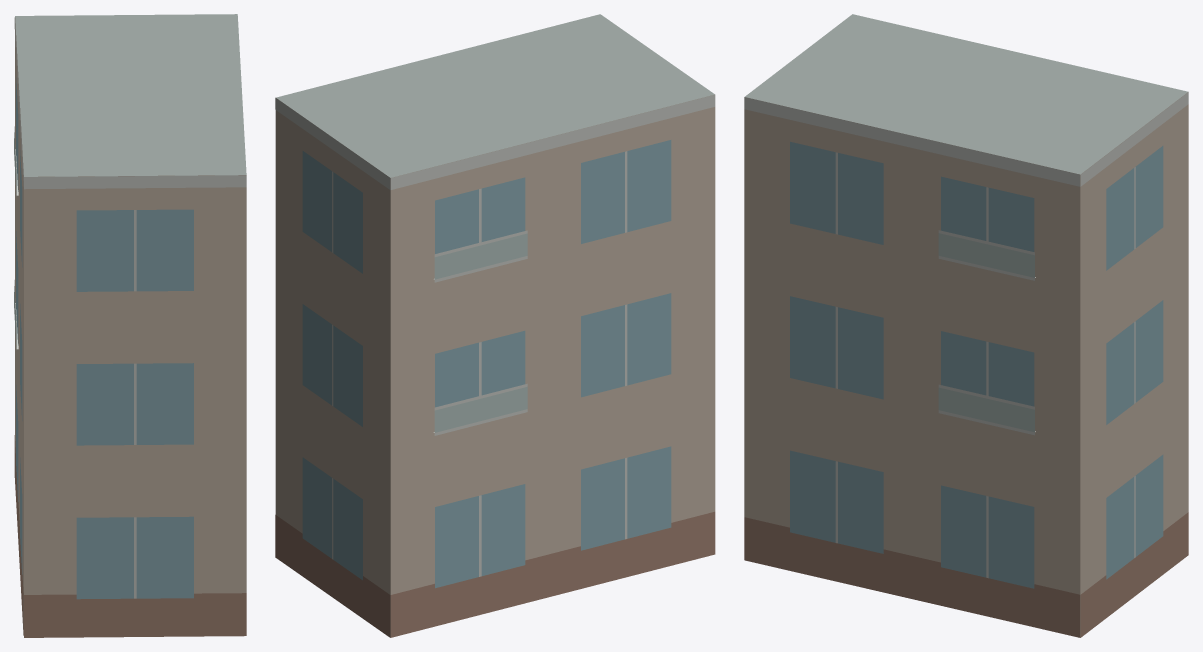
File: survey-upis-32965180.glb
3 renders of one model, left to right at view 1: azimuth 30°, elevation 25°; view 2: azimuth 150°, elevation 25°; view 3: azimuth 270°, elevation 25°, orthographic.
Parts seen in each view (by area): view 1: survey-upis-32965180.tmp; view 2: survey-upis-32965180.tmp; view 3: survey-upis-32965180.tmp.
Part boxes in pixels (x1,y1,x2,y2): survey-upis-32965180.tmp: (14,14,246,637); survey-upis-32965180.tmp: (275,14,715,637); survey-upis-32965180.tmp: (744,14,1188,637).
Bounding box in the file's own units: 6.81 × 9.15 × 7.96.
